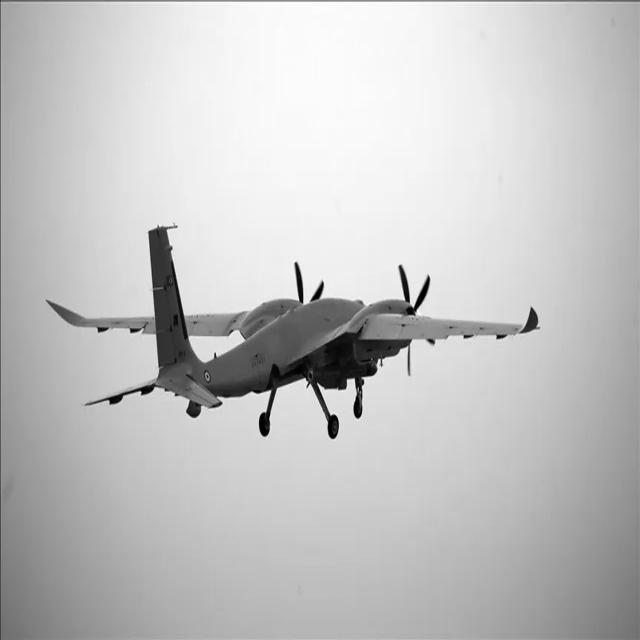iha: (3, 224, 538, 438)
